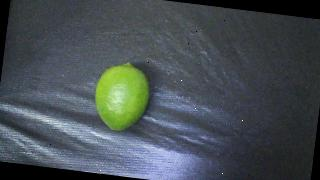LOCAL: (91, 59, 153, 134)
